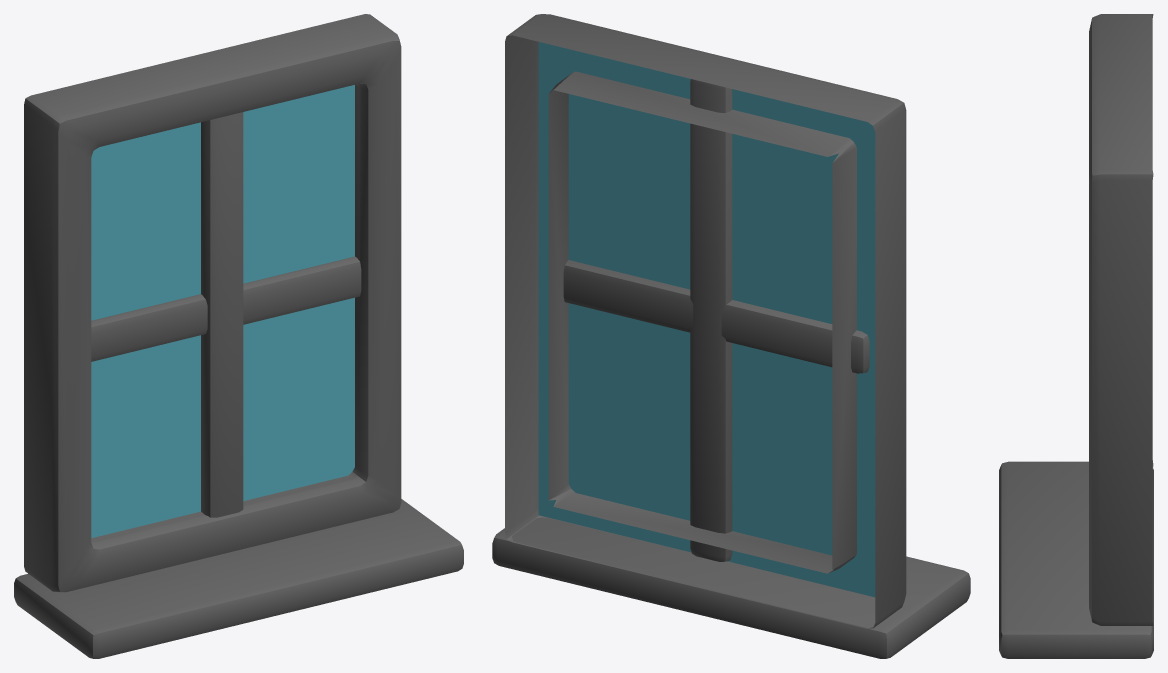
Rendered from SM_window_03.fbx.
The picture shows the model from 3 angles, left to right: view 1: azimuth 30°, elevation 25°; view 2: azimuth 150°, elevation 25°; view 3: azimuth 270°, elevation 25°; orthographic projection. The views are drawn at different scales.
Parts seen in each view (by area): view 1: Object033; view 2: Object033; view 3: Object033.
Boxes of the visible parts, x1,y1,x2,y2 form: Object033: [14, 14, 463, 658]; Object033: [492, 14, 970, 658]; Object033: [999, 14, 1153, 658].
Size of the model in its own units: 38.54 by 49.55 by 14.43.
